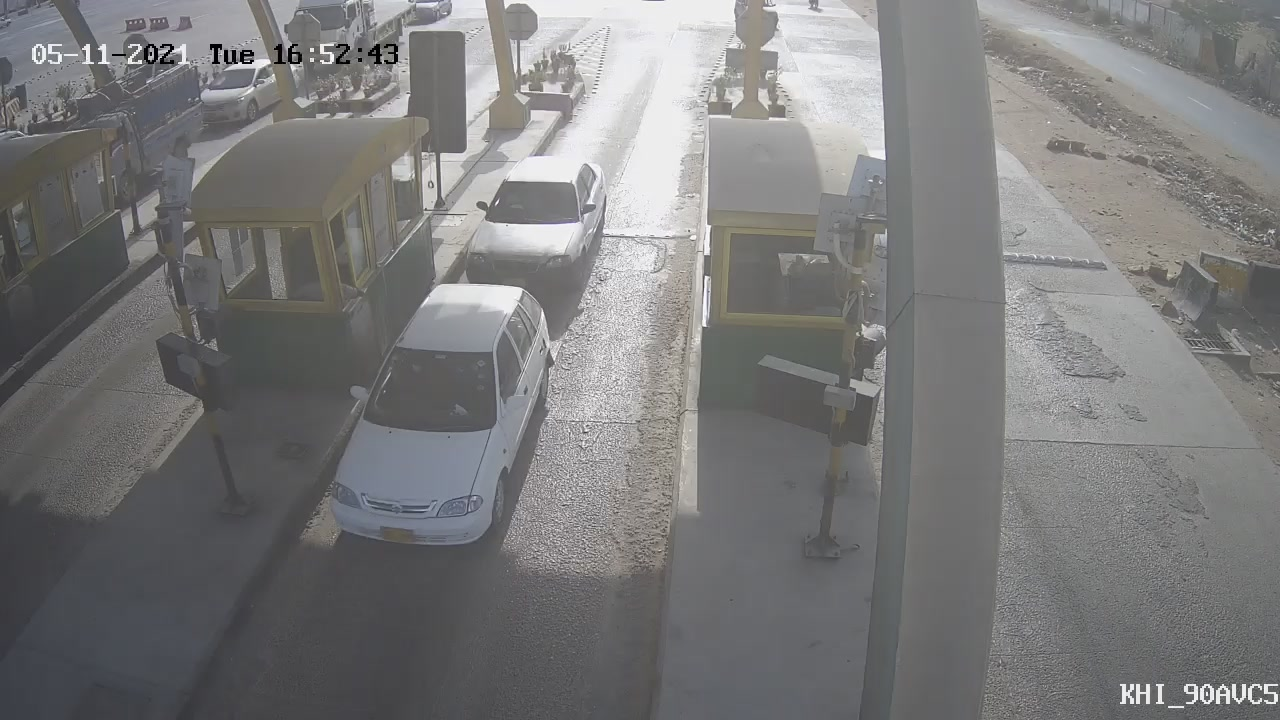F1: (311, 264, 582, 570), (444, 138, 625, 312)
